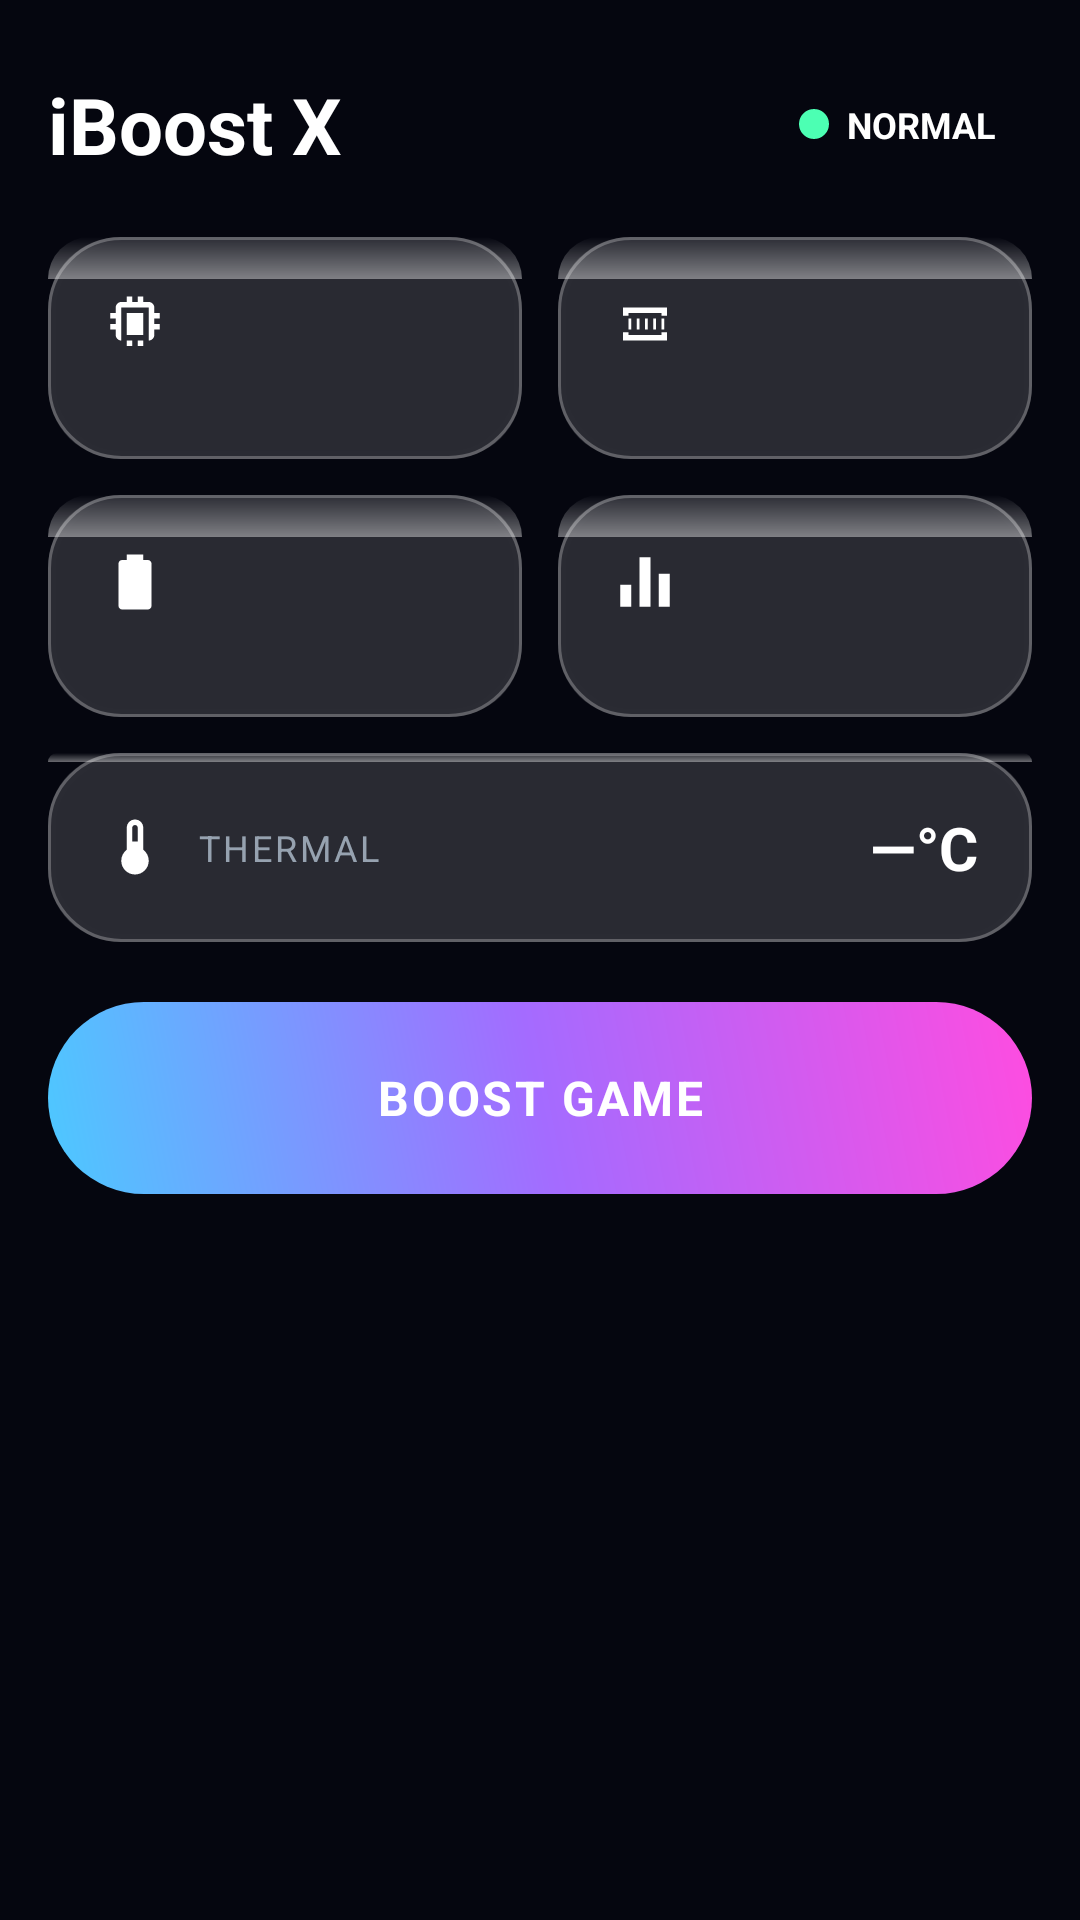

Named icons in this screenshot (1080 × 1920) and their bounding boxes, [x1,y1,x2,y2]:
battery: [118,554,152,610]
cpu: [110,296,160,346]
performance: [620,557,670,607]
ram: [623,307,667,341]
